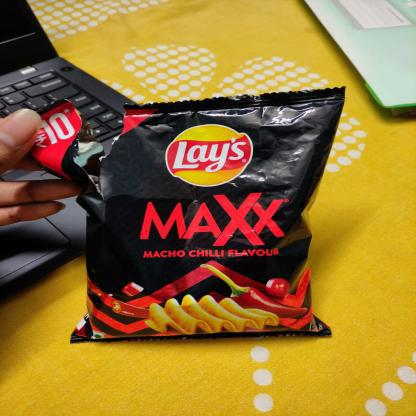max_chili: (49, 108, 345, 342)
